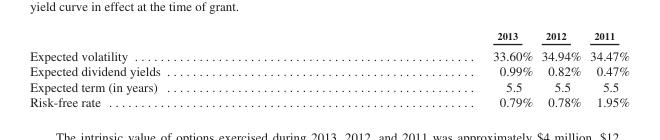table: (29, 29, 629, 109)
table column: (29, 29, 326, 109), (326, 29, 536, 109), (536, 29, 584, 109), (584, 29, 629, 109)
table column header: (29, 29, 629, 44)
table row: (29, 44, 629, 63), (29, 78, 629, 94), (29, 29, 629, 44), (29, 63, 629, 78), (29, 94, 629, 109)
